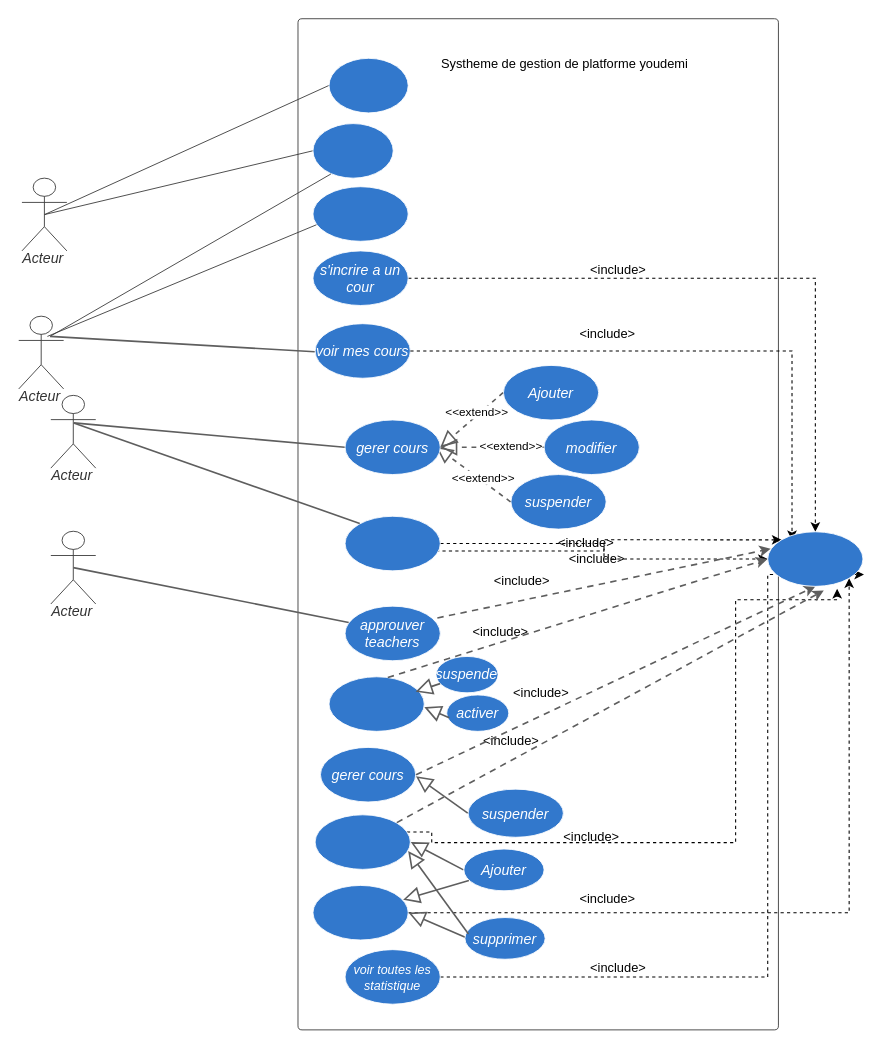
Image size: 891x1049. Some labels were removed from this diagram. Here are the shapes that lost their labels. From the top down, the centre of each, then its label:
[368,85]: crer un compte
[352,150]: consulter catalogue
[360,213]: Rechercher un coure
[392,543]: voir statistique
[815,558]: S'ethentifier
[376,703]: gerer uers
[362,841]: gerer tags
[360,912]: gerer categories
